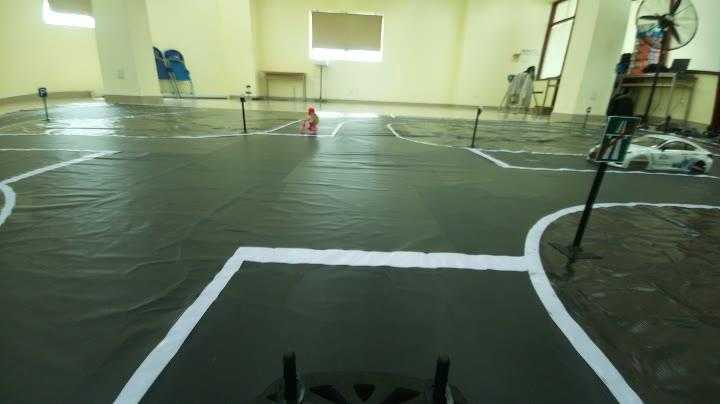highway_exit: (592, 109, 644, 168)
